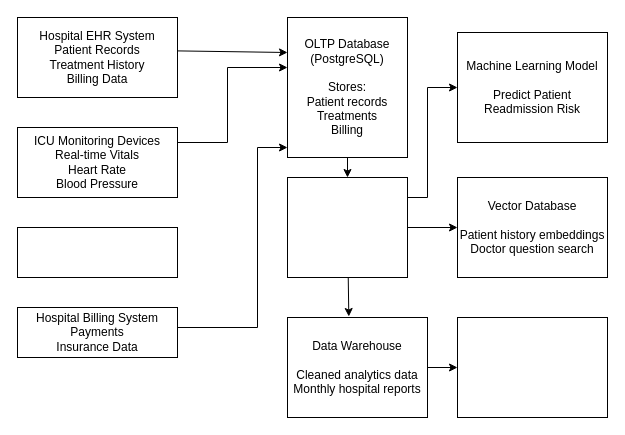
Some shapes in this 625 by 435 pixel diagram are drawn without their labels. Each missing label, with the box of its shape:
BI Dashboard Bed Occupancy Department Costs Monthly Reports: (456, 316, 608, 418)
Data Lake Stores: ICU device logs Doctor notes Medical images: (286, 176, 408, 278)
Doctor Notes Patient History Medical Reports: (16, 226, 178, 278)
